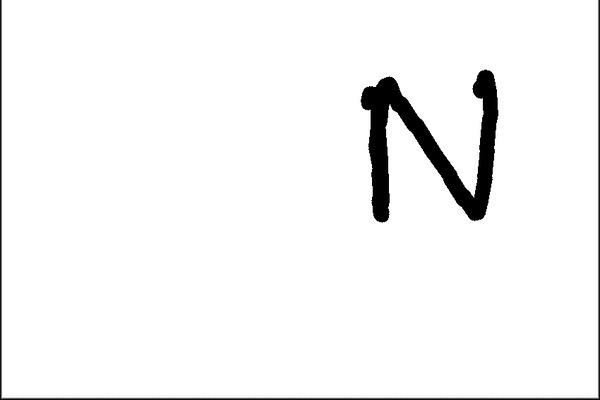N: (353, 65, 505, 231)
